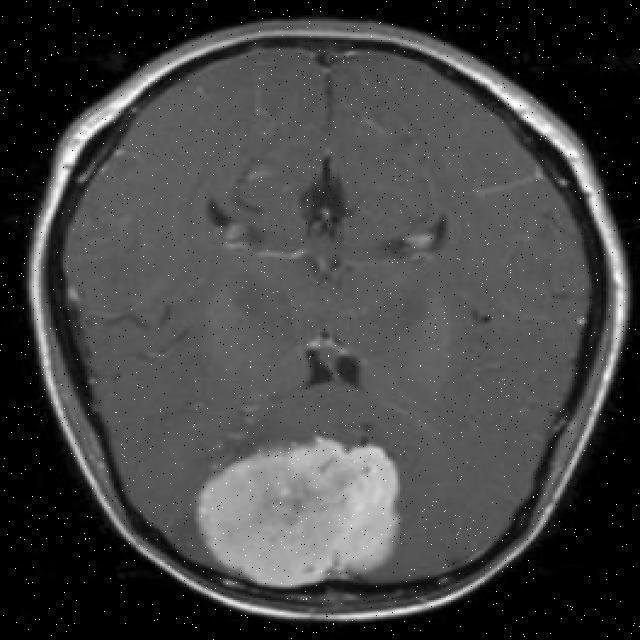Meningioma: (196, 437, 398, 586)
